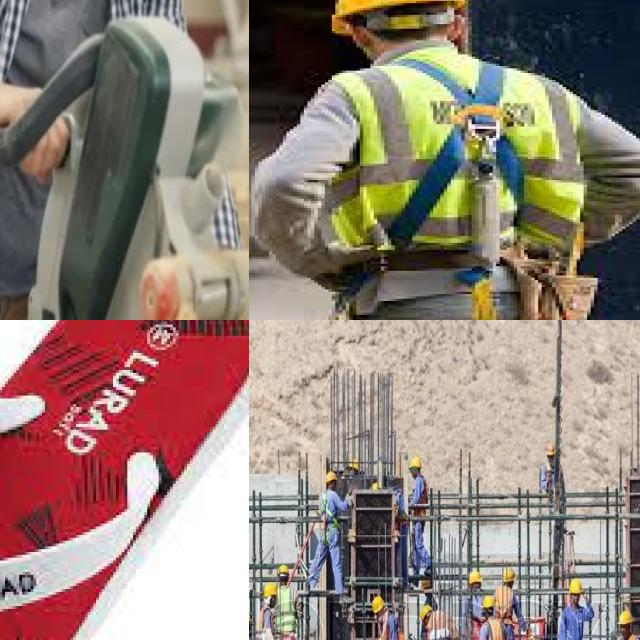Harness: (329, 54, 599, 320)
Sandals: (0, 320, 249, 640)
head_helmet: (369, 594, 391, 613), (616, 607, 634, 628), (468, 566, 483, 586), (569, 577, 586, 594), (409, 454, 425, 472), (501, 565, 516, 583), (482, 593, 496, 612), (279, 557, 292, 577), (545, 440, 560, 457), (421, 604, 433, 622), (325, 469, 339, 482), (266, 580, 276, 598), (351, 458, 360, 469), (372, 481, 383, 490), (249, 609, 253, 625)
person: (0, 0, 204, 320), (404, 452, 436, 577), (315, 466, 344, 586), (555, 574, 594, 640), (499, 561, 527, 640), (369, 589, 412, 640), (388, 478, 407, 583), (276, 567, 303, 640), (541, 444, 569, 513), (417, 596, 460, 640), (478, 596, 509, 640), (258, 592, 275, 640), (351, 446, 367, 481)
vest: (276, 589, 299, 637), (410, 481, 431, 518), (427, 617, 454, 640), (499, 584, 518, 616), (483, 617, 509, 640), (544, 464, 564, 493), (382, 621, 407, 640), (259, 612, 275, 640)
